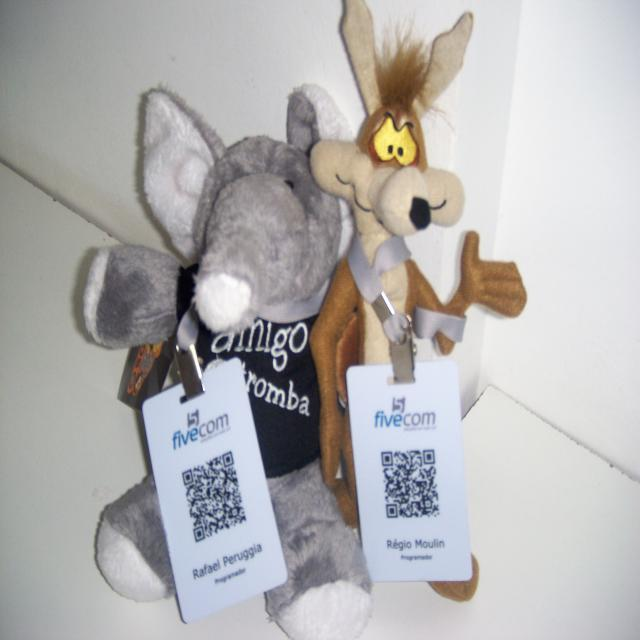qrcode: (182, 452, 247, 544), (382, 451, 440, 519)
